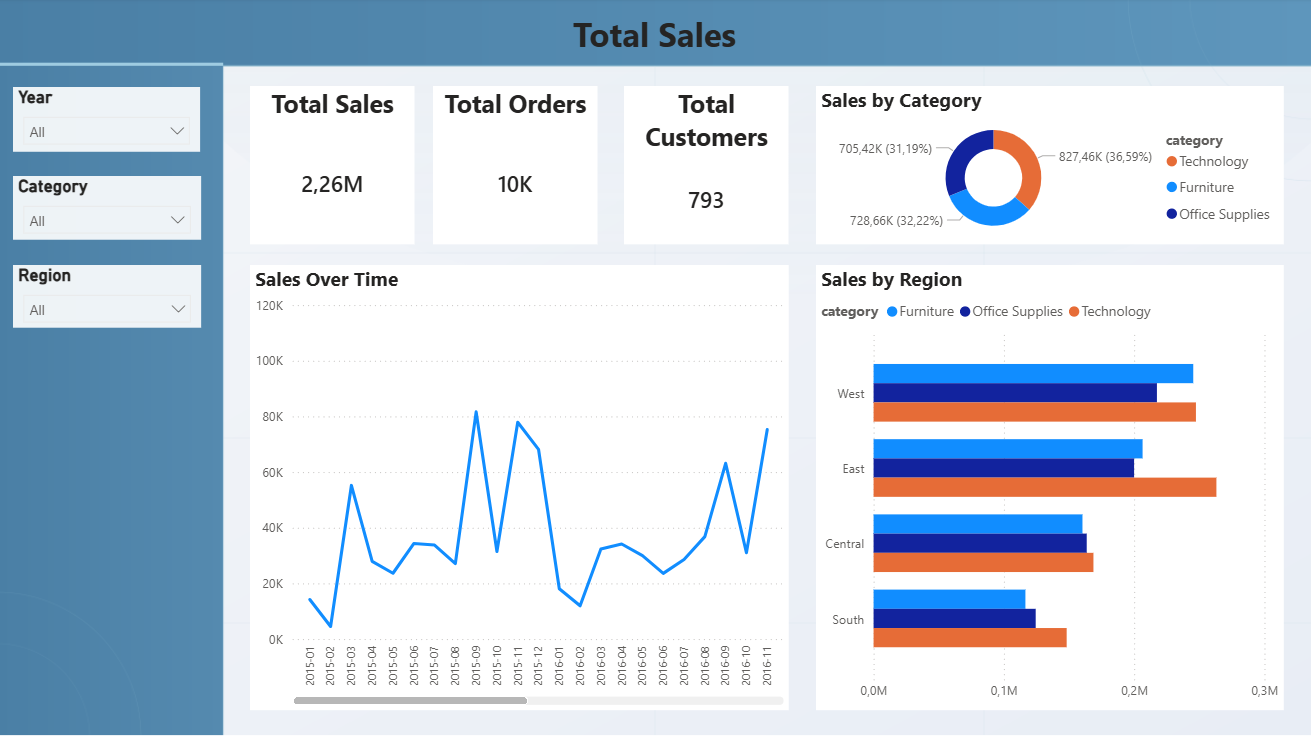

This screenshot's page, from the dashboard's own definition file:
{"tool":"powerbi","page":{"name":"Main_Page_Total_Sales","canvas":[1280,720],"ordinal":0},"visuals":[{"type":"cardVisual","title":"Total Sales","fields":{"Data":["Sum(vw_sales_summary.total_sales)"]},"box":[246.1,85.6,160.5,153.7],"z":0},{"type":"cardVisual","title":"Total Orders","fields":{"Data":["Sum(vw_sales_summary.orders_count)"]},"box":[424.1,85.6,160.5,153.7],"z":1000},{"type":"cardVisual","title":"Total Customers","fields":{"Data":["Count(orders.customer_id)"]},"box":[609.8,85.6,160.5,153.7],"z":2000},{"type":"lineChart","title":"Sales Over Time","fields":{"Y":["Sum(vw_sales_summary.total_sales)"],"Category":["vw_sales_summary.year_month"]},"box":[246.1,259.7,524.3,432.8],"z":3000},{"type":"clusteredBarChart","title":"Sales by Region","fields":{"Category":["vw_sales_summary.region"],"Y":["Sum(vw_sales_summary.total_sales)"],"Series":["vw_sales_summary.category"]},"box":[796.6,259.7,455.2,432.8],"z":4000},{"type":"donutChart","title":"Sales by Category","fields":{"Category":["vw_sales_summary.category"],"Y":["Sum(vw_sales_summary.total_sales)"]},"box":[796.6,85.6,455.2,153.7],"z":5000},{"type":"slicer","title":"Region","fields":{"Values":["vw_sales_summary.region"]},"box":[15.4,259.3,183.4,61.5],"z":6000},{"type":"slicer","title":"Category","fields":{"Values":["vw_sales_summary.category"]},"box":[15.6,172.8,182.9,62.2],"z":7000},{"type":"slicer","title":"Year","fields":{"Values":["vw_sales_summary.year"]},"box":[15.4,86.1,182.4,62.5],"z":8000},{"type":"textbox","box":[547.6,7.8,183.8,54.5],"z":9000}]}

Visuals, with their boxes in screenshot pixels (x1, y1, x2, y2), scaled from the page's 1280x720 canvas onto the 1311x737 screenshot:
"Total Sales" cardVisual: select_region(252, 88, 416, 245)
"Total Orders" cardVisual: select_region(434, 88, 599, 245)
"Total Customers" cardVisual: select_region(625, 88, 789, 245)
"Sales Over Time" lineChart: select_region(252, 266, 789, 709)
"Sales by Region" clusteredBarChart: select_region(816, 266, 1282, 709)
"Sales by Category" donutChart: select_region(816, 88, 1282, 245)
"Region" slicer: select_region(16, 265, 204, 328)
"Category" slicer: select_region(16, 177, 203, 241)
"Year" slicer: select_region(16, 88, 203, 152)
textbox: select_region(561, 8, 749, 64)
